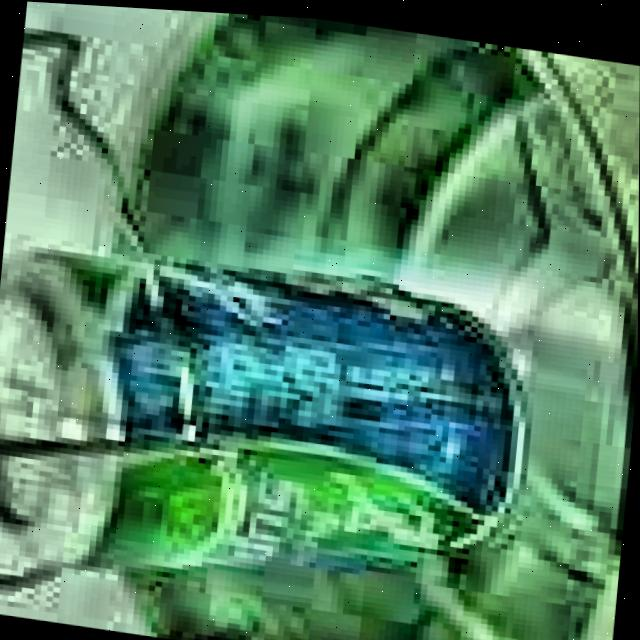metal: (0, 194, 559, 640)
